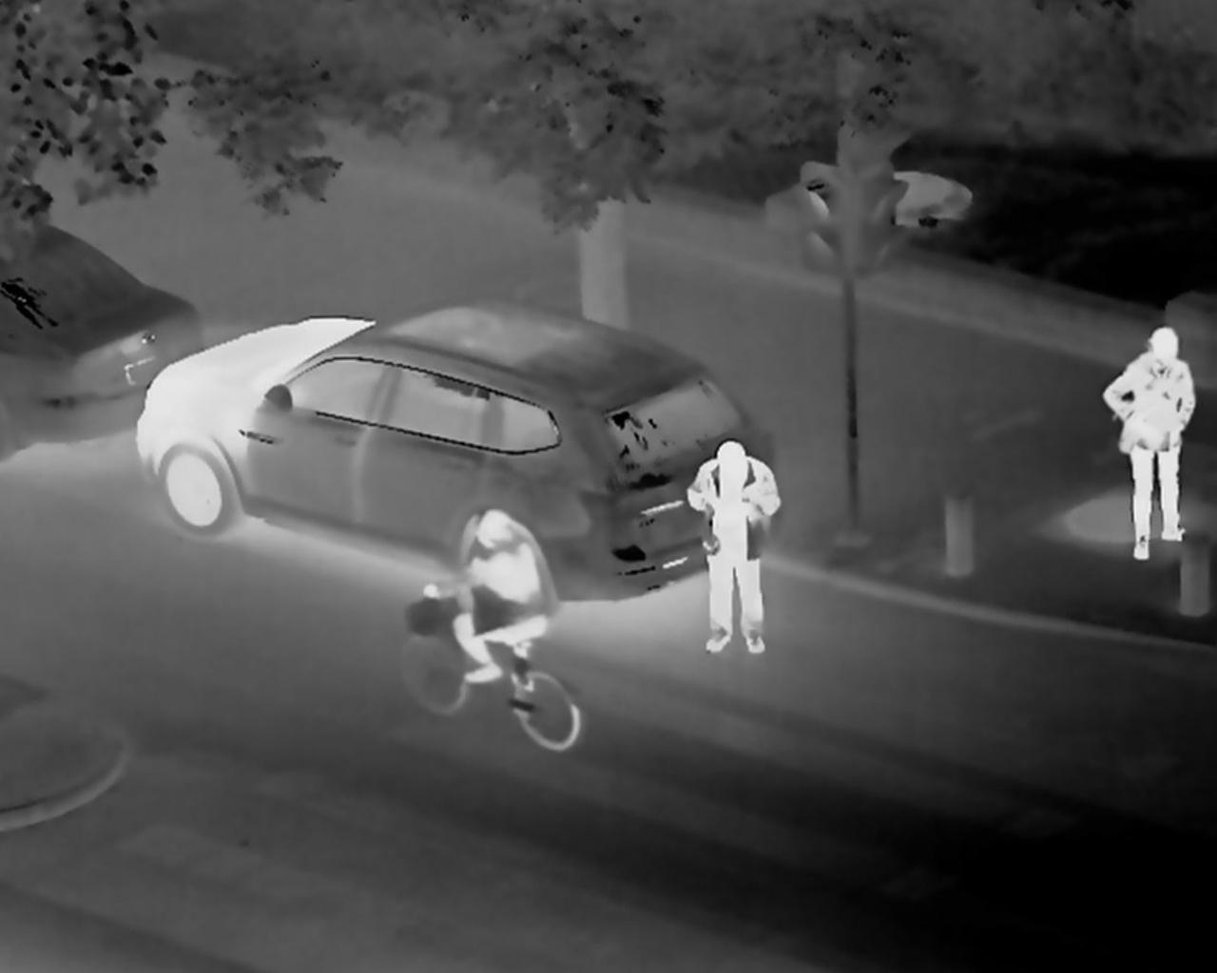person: (694, 424, 810, 675), (1119, 321, 1207, 563), (468, 495, 557, 696)
